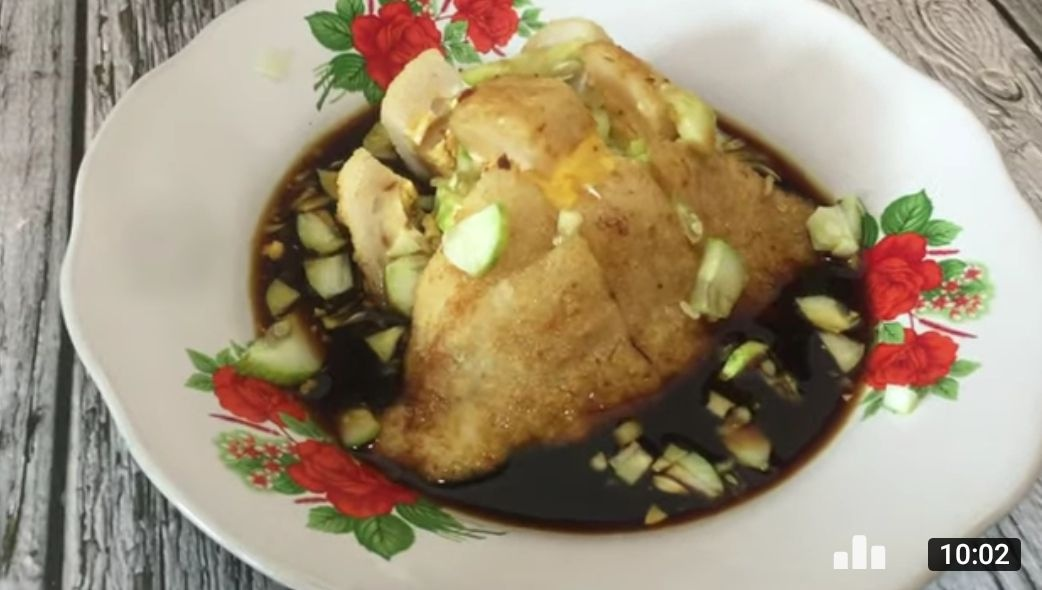pempek: (342, 15, 823, 483)
